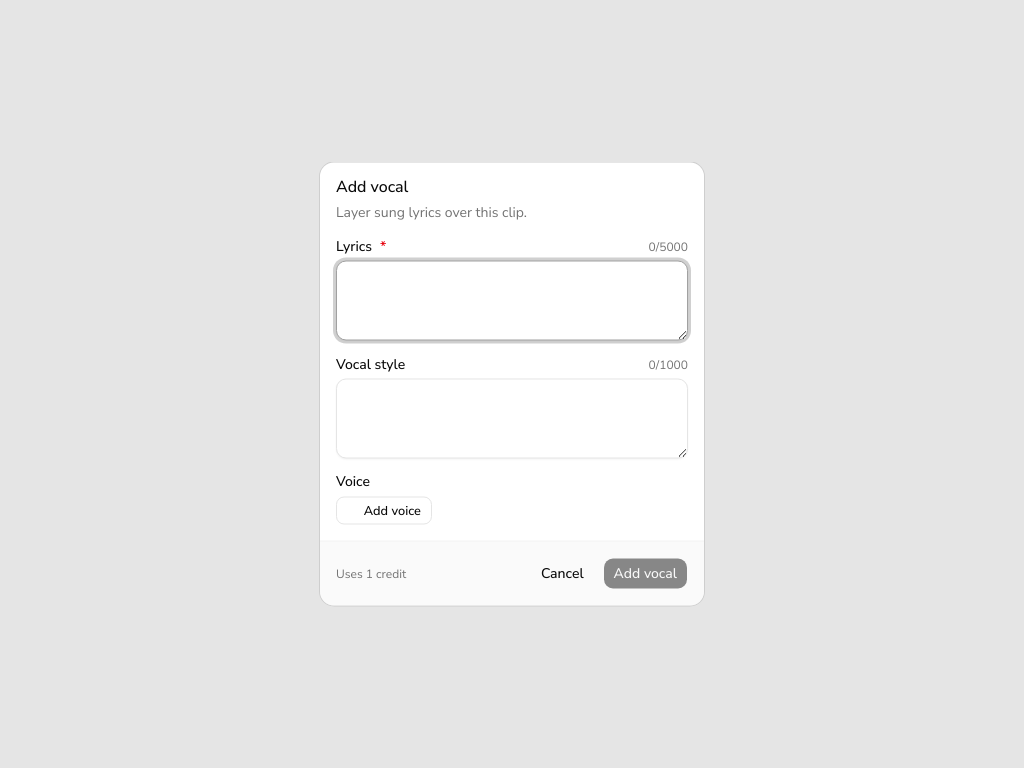
Test: AddVocalModal › disables submit until lyrics are provided
Expected: the button "Add vocal" is disabled, [603, 558, 688, 590]
Type "la la la" into the text box labelled "Lyrics *" at (512, 300), box [336, 260, 688, 340]
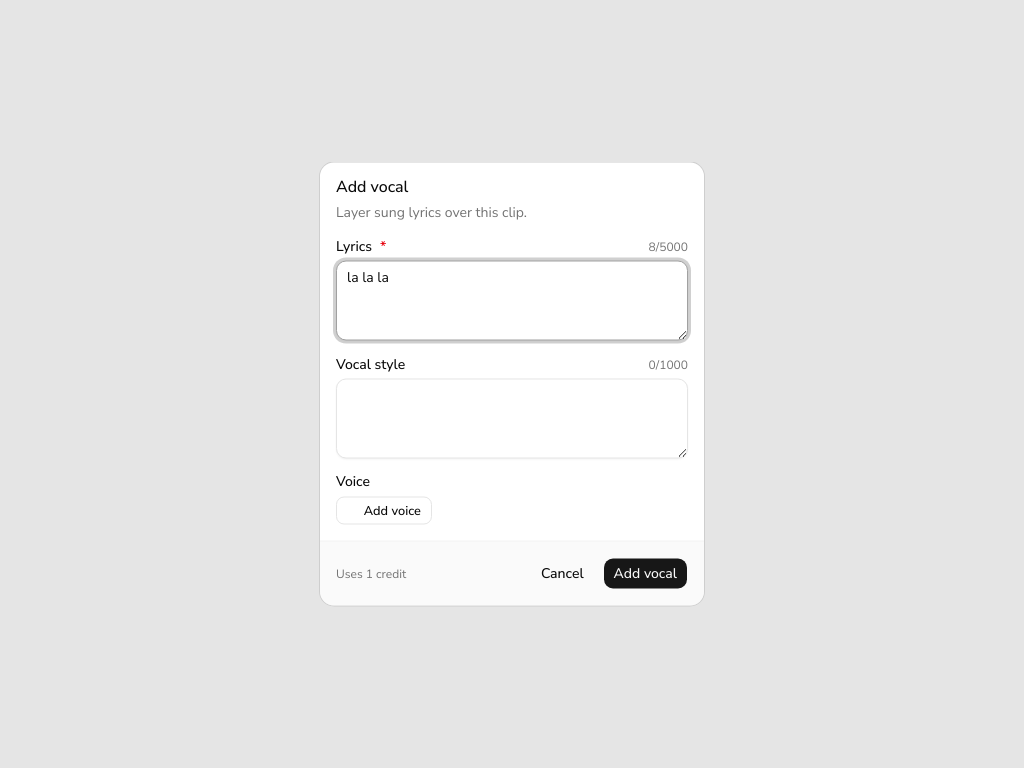
Expected: the button "Add vocal" is enabled, [603, 558, 688, 590]
